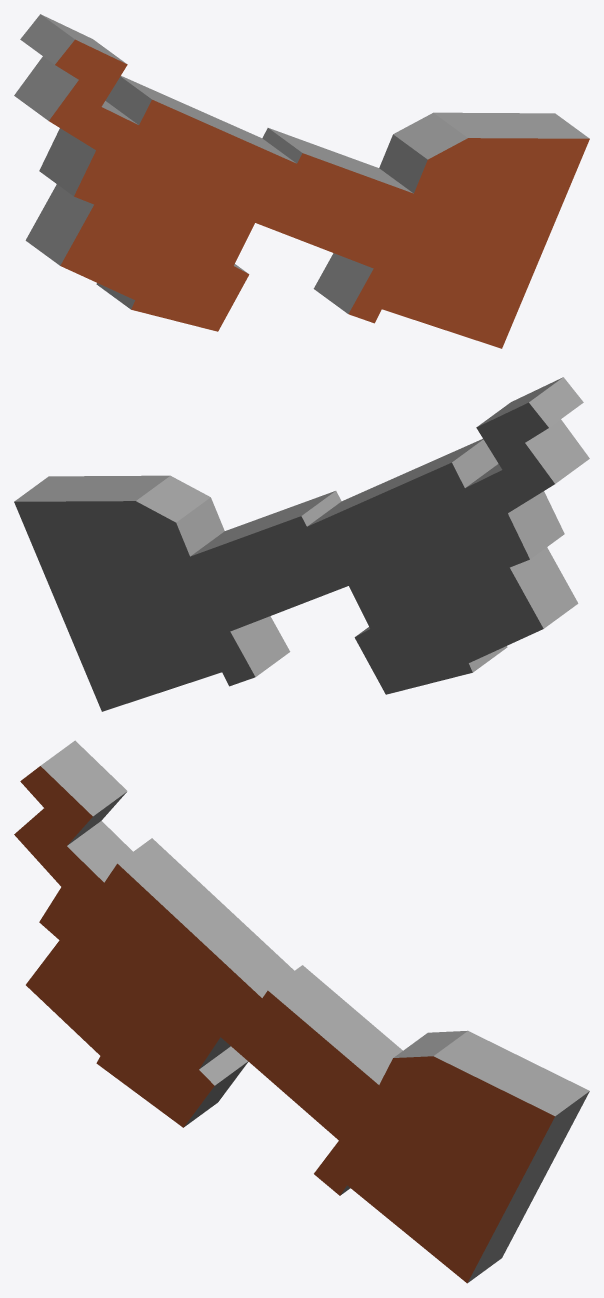
File: construction_4240_assumed_A_Casa_h6m.obj
3 renders of one model, top to bottom at view 1: azimuth 30°, elevation 25°; view 2: azimuth 150°, elevation 25°; view 3: azimuth 330°, elevation 25°, orthographic.
Parts seen in each view (by area): view 1: construction_4240_assumed_A_Casa; view 2: construction_4240_assumed_A_Casa; view 3: construction_4240_assumed_A_Casa.
Part boxes in pixels (x1,y1,x2,y2): construction_4240_assumed_A_Casa: (14, 14, 589, 348); construction_4240_assumed_A_Casa: (14, 377, 589, 711); construction_4240_assumed_A_Casa: (14, 740, 589, 1283).
Size of the model in its own units: 53.97 by 39.41 by 6.
